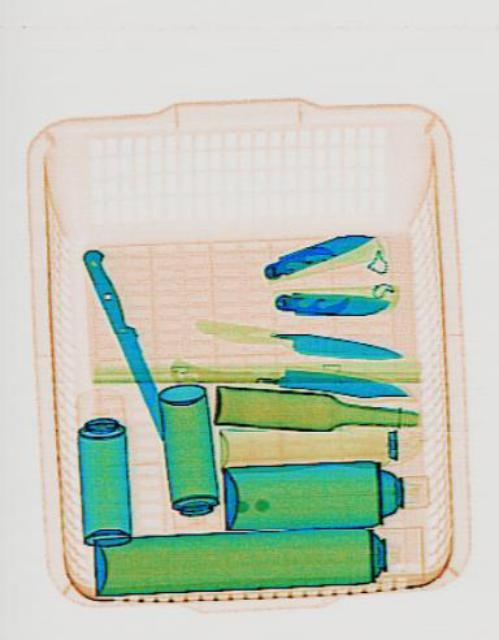Knife: (76, 241, 176, 439), (256, 217, 376, 283), (269, 325, 401, 367), (263, 363, 407, 401), (271, 288, 390, 318)
